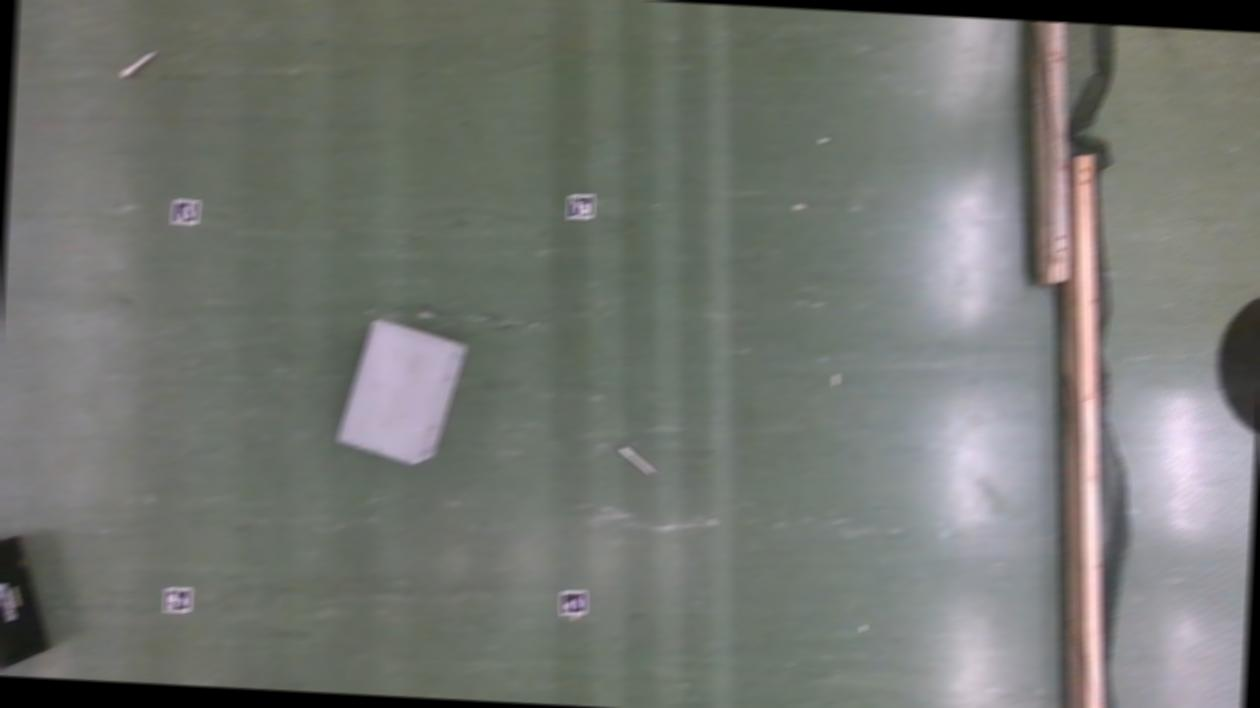probes: (620, 446, 655, 476), (122, 51, 154, 80)
rako: (335, 319, 468, 470), (0, 537, 54, 678)
